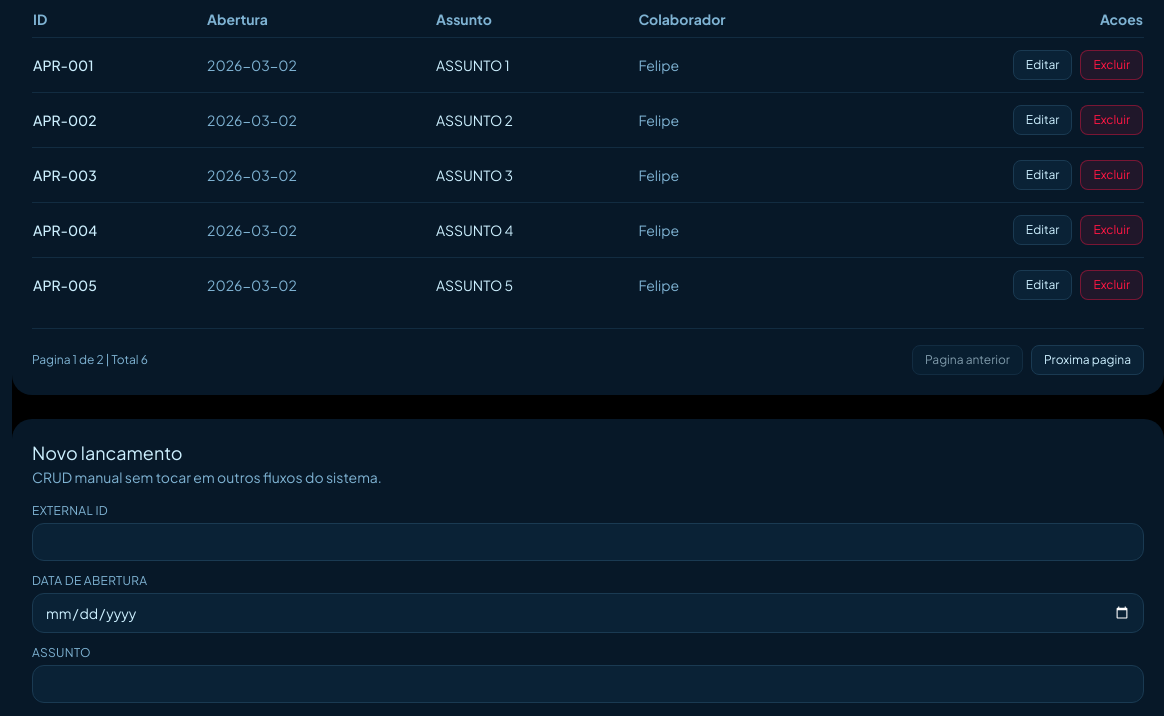
Test: AprPage › pagina a tabela manual com 5 registros por pagina
(page scrolled)
Expected: the table is shown, left=32, top=38, right=1144, bottom=312
Expected: the text "Pagina 1 de 2 | Total 6" is shown, left=32, top=352, right=148, bottom=368
Click the button "Proxima pagina" at (1087, 360), box left=1031, top=345, right=1144, bottom=375
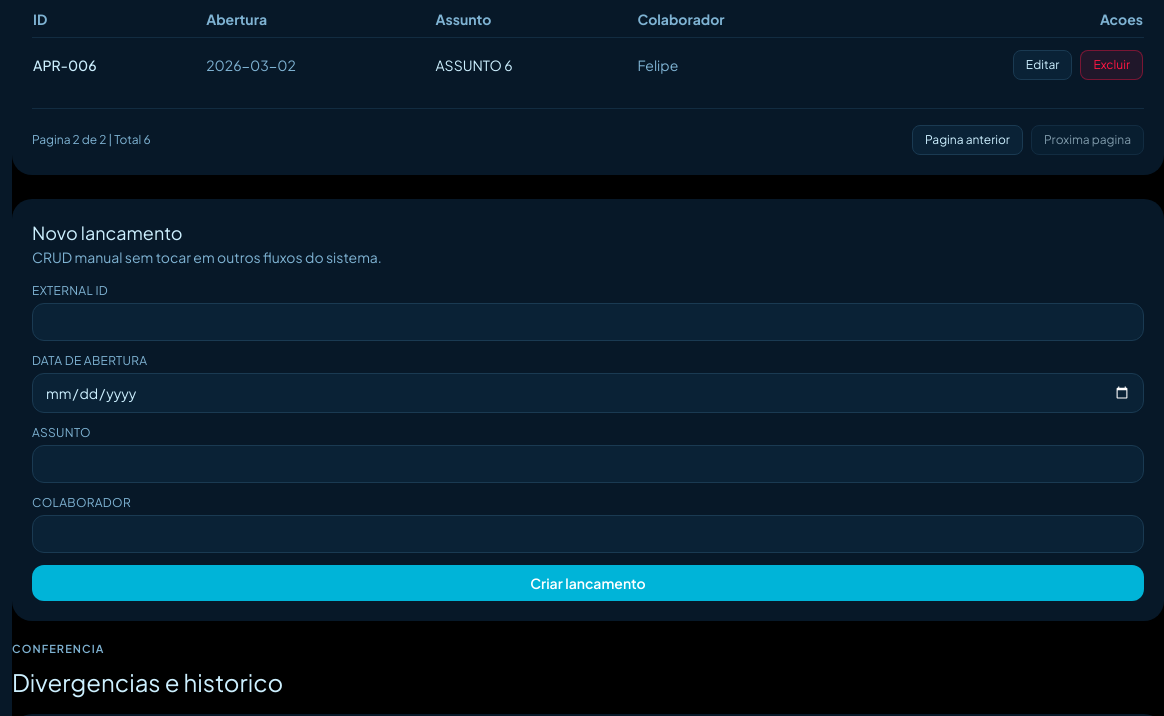
Expected: the text "Pagina 2 de 2 | Total 6" is shown, left=32, top=132, right=150, bottom=148
Now the text "APR-006" is shown, box left=32, top=38, right=205, bottom=92
Now the text "APR-001" is gone
